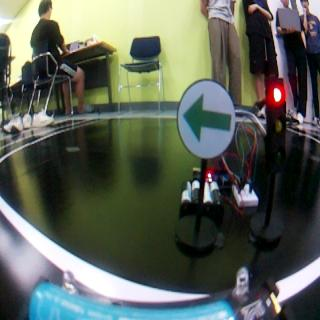left: (178, 80, 232, 156)
red: (266, 80, 282, 244)
